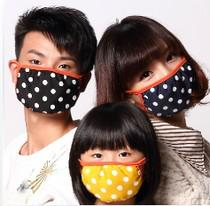OK: (132, 48, 201, 117), (17, 47, 82, 112), (82, 143, 140, 201)
